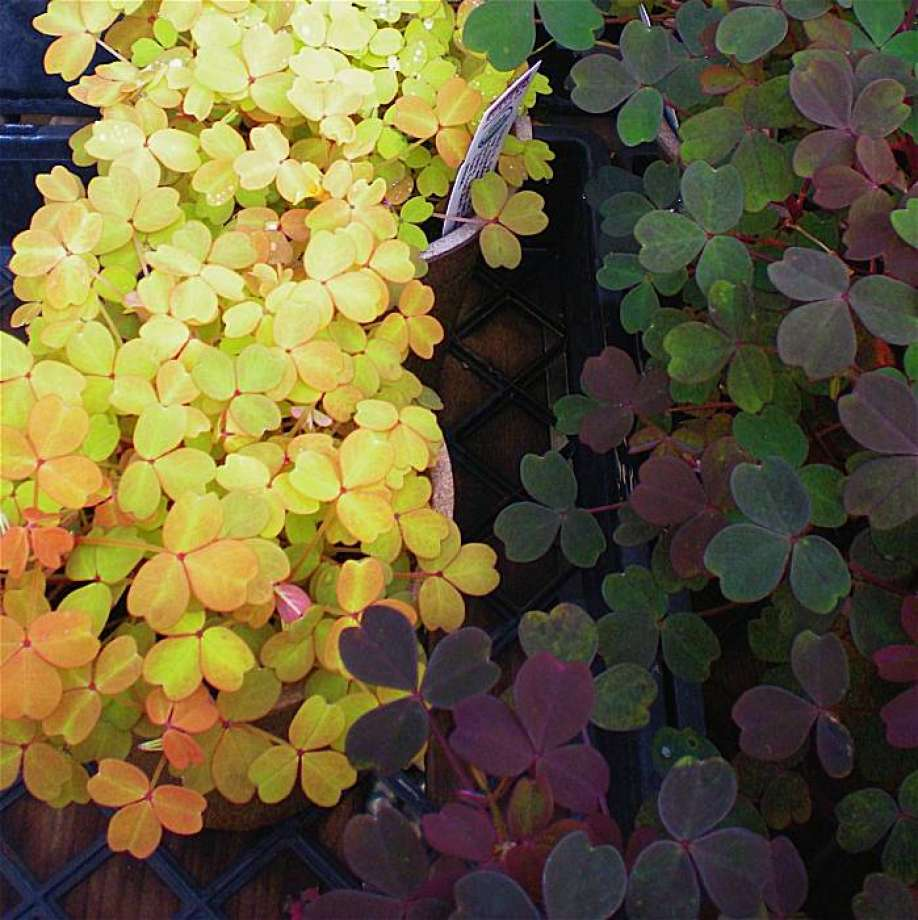oxalis: (32, 28, 492, 861), (519, 64, 918, 879)
